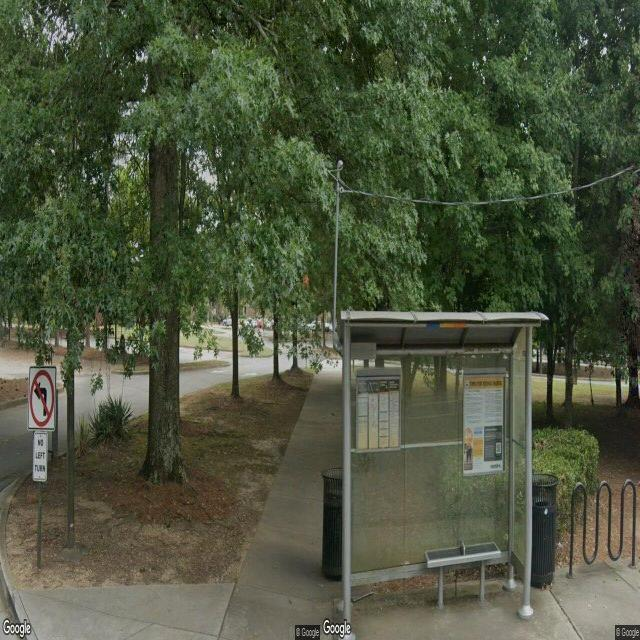seating: (424, 540, 504, 614)
shelter: (338, 311, 552, 638)
trash_can: (322, 466, 354, 584), (531, 471, 559, 589)
